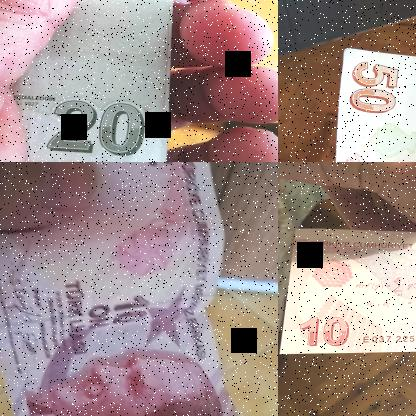5 TL: (16, 0, 177, 161)
